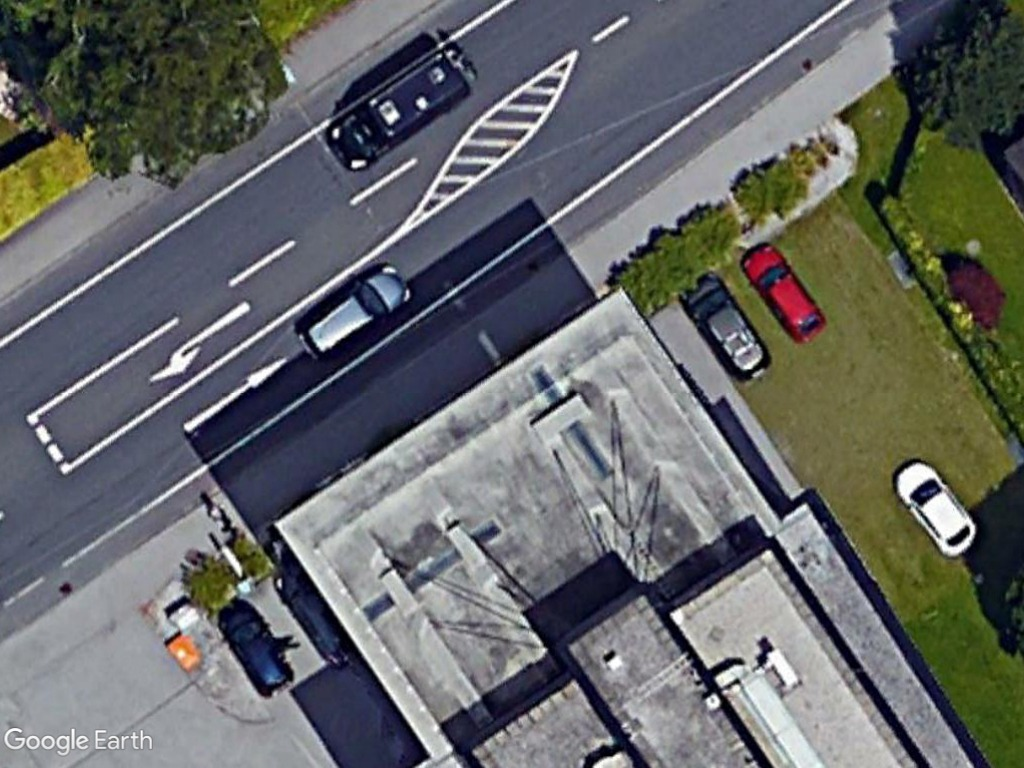car: (290, 256, 414, 369), (885, 455, 987, 563), (676, 267, 774, 378), (734, 240, 833, 348), (213, 598, 299, 699)
